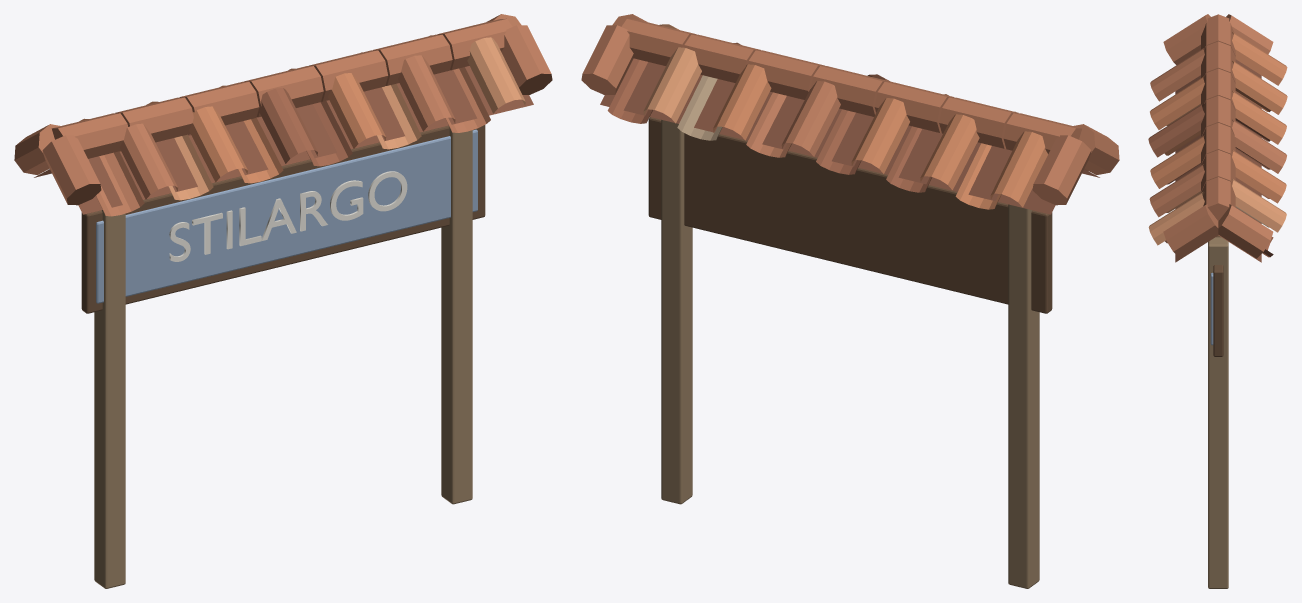
File: TownSign.fbx
The picture shows the model from 3 angles, left to right: view 1: azimuth 30°, elevation 25°; view 2: azimuth 150°, elevation 25°; view 3: azimuth 270°, elevation 25°; orthographic projection. The views are drawn at different scales.
Parts seen in each view (by area): view 1: TownSign; view 2: TownSign; view 3: TownSign.
Boxes of the visible parts, <box> form: TownSign: <box>14,14,552,588</box>; TownSign: <box>581,14,1119,588</box>; TownSign: <box>1148,14,1287,588</box>.
Size of the model in its own units: 2.8 by 2.58 by 0.8066.
